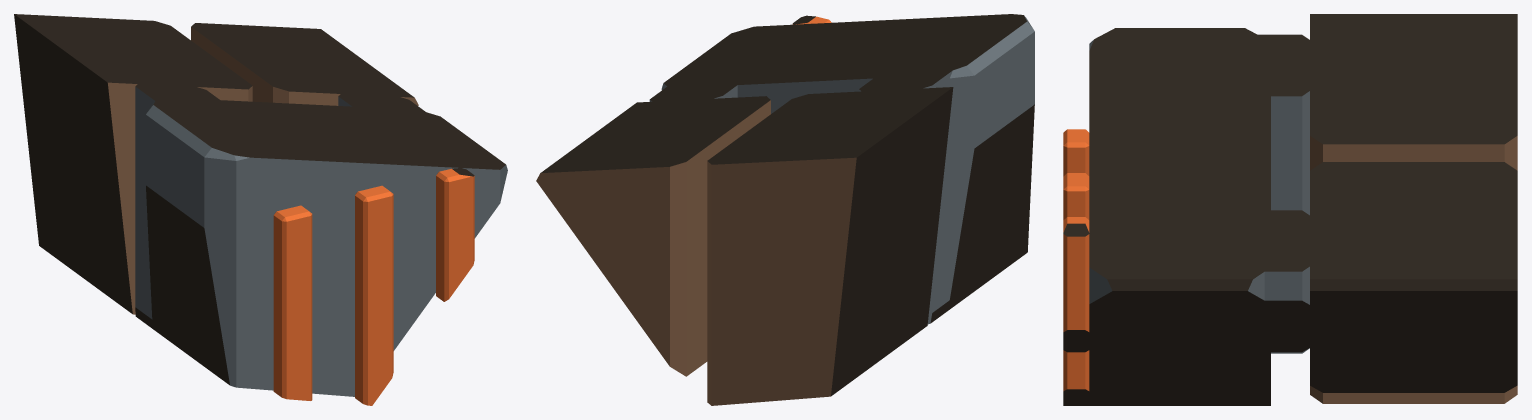
The model's file is SM_DoorShard_01_02.fbx.
The picture shows the model from 3 angles, left to right: view 1: azimuth 30°, elevation 25°; view 2: azimuth 150°, elevation 25°; view 3: azimuth 270°, elevation 25°; orthographic projection. The views are drawn at different scales.
Parts seen in each view (by area): view 1: SM_DoorShard_01_02; view 2: SM_DoorShard_01_02; view 3: SM_DoorShard_01_02.
Part boxes in pixels (x1,y1,x2,y2): SM_DoorShard_01_02: (14, 14, 507, 405); SM_DoorShard_01_02: (536, 14, 1034, 405); SM_DoorShard_01_02: (1063, 14, 1517, 405).
Bounding box in the file's own units: 30.65 × 35 × 26.29.
